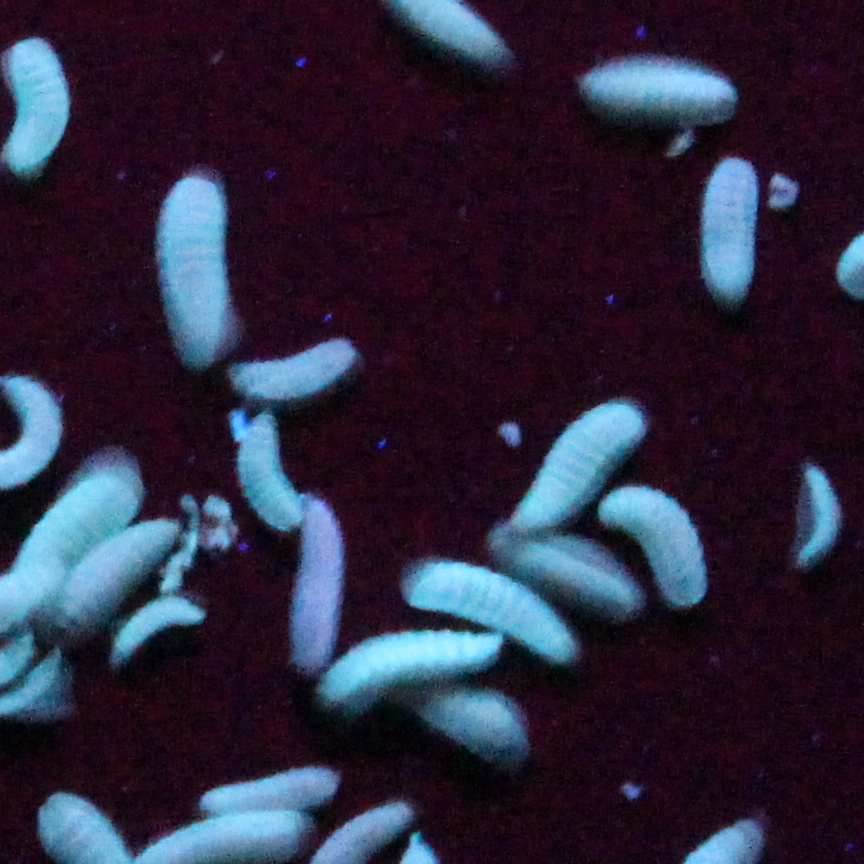larve: (490, 412, 656, 532), (405, 552, 579, 666), (45, 514, 190, 634), (163, 178, 243, 378), (327, 629, 505, 717), (616, 492, 723, 605), (303, 492, 350, 698), (3, 32, 63, 192), (583, 65, 736, 125), (198, 758, 343, 813), (233, 340, 347, 403), (240, 410, 298, 529), (423, 692, 530, 752), (799, 454, 845, 577), (710, 152, 750, 292), (116, 614, 199, 666)
